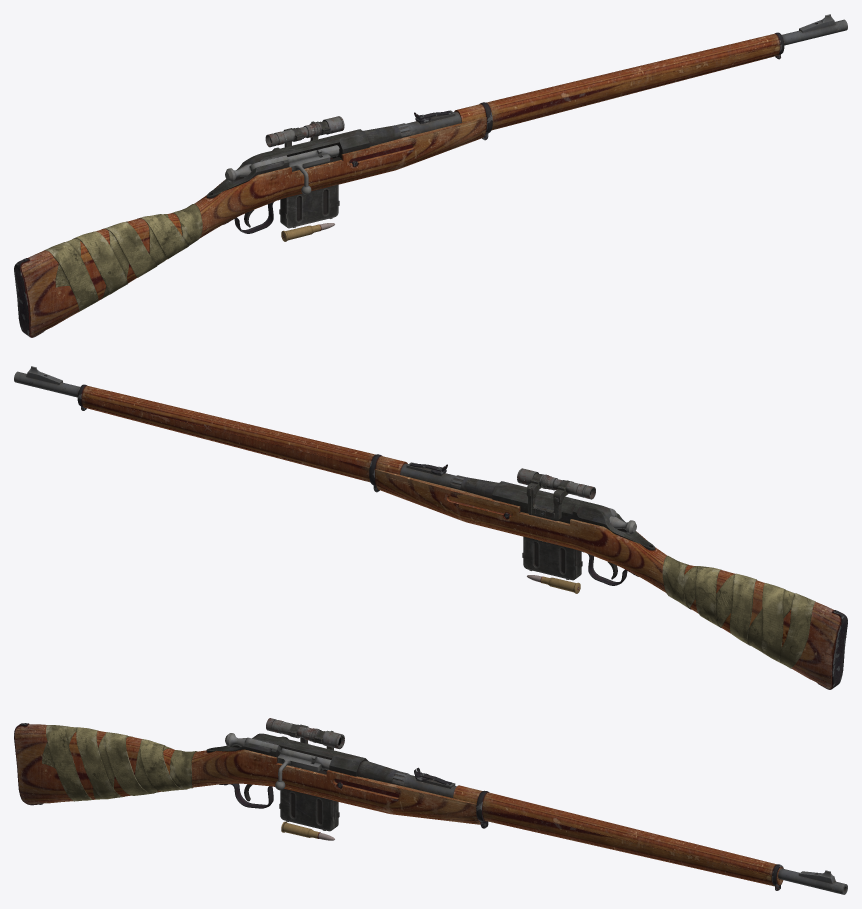
The model's file is asset.gltf.
3 views of the same model, one above another, from view 1: azimuth 30°, elevation 25°; view 2: azimuth 150°, elevation 25°; view 3: azimuth 330°, elevation 25° (orthographic).
Parts seen in each view (by area): view 1: bolt_action_rifle_7_62, bolt_action_rifle_7_62_wrap, bolt_action_rifle_7_62_scope, bolt_action_rifle_7_62_bolt_a; view 2: bolt_action_rifle_7_62, bolt_action_rifle_7_62_wrap, bolt_action_rifle_7_62_scope; view 3: bolt_action_rifle_7_62, bolt_action_rifle_7_62_wrap, bolt_action_rifle_7_62_scope, bolt_action_rifle_7_62_bolt_a, bolt_action_rifle_7_62_bullet_54mm, bolt_action_rifle_7_62_bolt_b.
Boxes of the visible parts, box(x1,y1,x2,y2) form: bolt_action_rifle_7_62: box(14, 14, 847, 337); bolt_action_rifle_7_62_wrap: box(44, 203, 202, 311); bolt_action_rifle_7_62_scope: box(265, 116, 344, 147); bolt_action_rifle_7_62_bolt_a: box(287, 145, 339, 194); bolt_action_rifle_7_62: box(14, 366, 847, 689); bolt_action_rifle_7_62_wrap: box(662, 556, 815, 668); bolt_action_rifle_7_62_scope: box(517, 468, 595, 520); bolt_action_rifle_7_62: box(14, 723, 847, 894); bolt_action_rifle_7_62_wrap: box(42, 725, 197, 801); bolt_action_rifle_7_62_scope: box(266, 718, 344, 750); bolt_action_rifle_7_62_bolt_a: box(275, 748, 331, 790); bolt_action_rifle_7_62_bullet_54mm: box(281, 821, 334, 840); bolt_action_rifle_7_62_bolt_b: box(225, 733, 324, 770).
Size of the model in its own units: 1.23 by 0.2045 by 0.0666.
3 materials, 3 textured.
